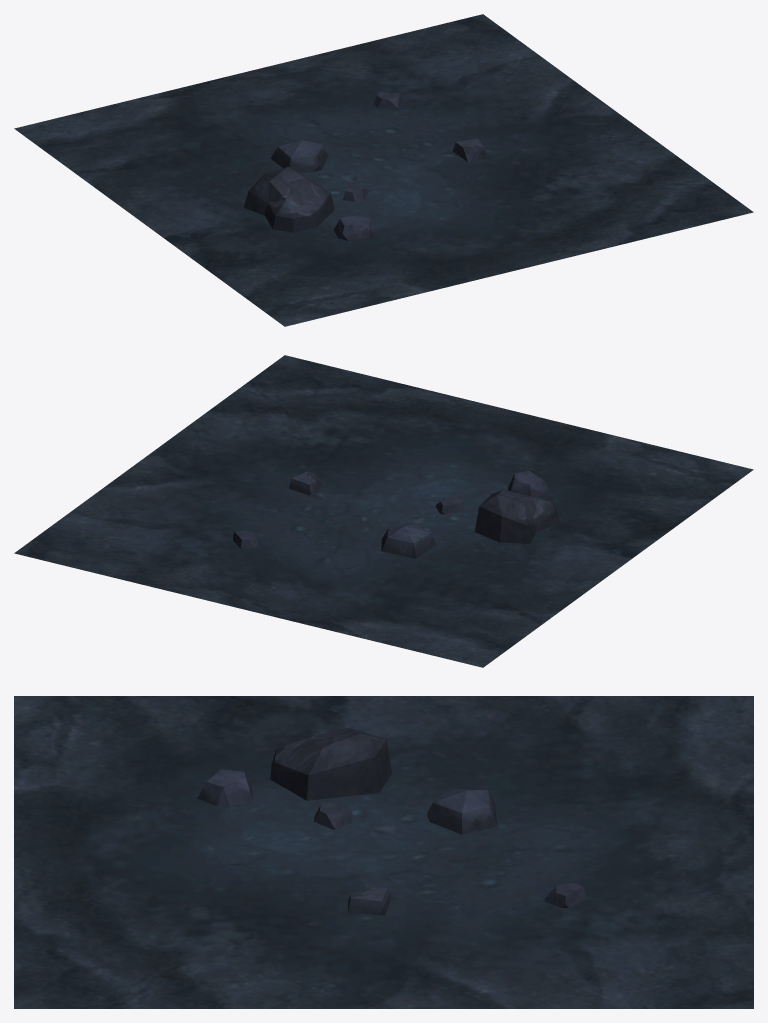
Rendered from mine_rubble_06.fbx.
3 renders of one model, top to bottom at view 1: azimuth 30°, elevation 25°; view 2: azimuth 150°, elevation 25°; view 3: azimuth 270°, elevation 25°, orthographic. The views are drawn at different scales.
Parts seen in each view (by area): view 1: mine_rubble_06-0; view 2: mine_rubble_06-0; view 3: mine_rubble_06-0.
Part boxes in pixels (box(x1,y1,x2,y2)): mine_rubble_06-0: box(14, 14, 753, 326); mine_rubble_06-0: box(14, 355, 753, 667); mine_rubble_06-0: box(14, 696, 753, 1008).
Bounding box in the file's own units: 4 × 0.3424 × 4.
